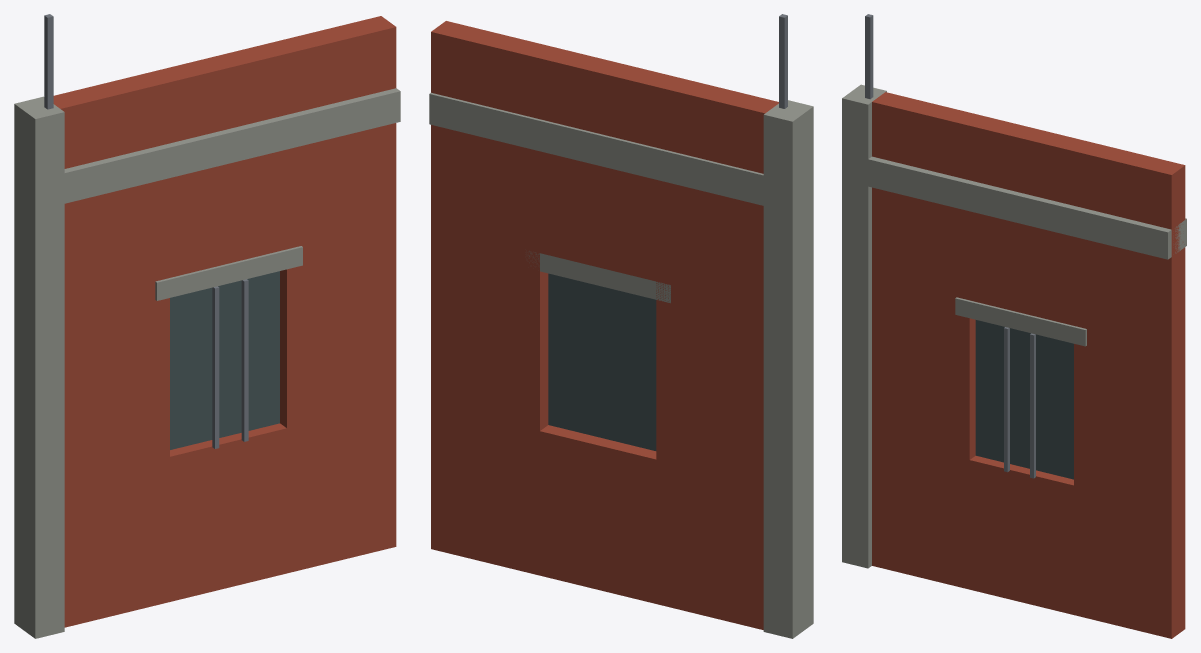
File: top-w1.fbx
The picture shows the model from 3 angles, left to right: view 1: azimuth 30°, elevation 25°; view 2: azimuth 150°, elevation 25°; view 3: azimuth 330°, elevation 25°; orthographic projection. The views are drawn at different scales.
Visible parts, largest first — view 1: a2019/0/top-w1; view 2: a2019/0/top-w1; view 3: a2019/0/top-w1.
Part boxes in pixels (x1,y1,x2,y2): a2019/0/top-w1: (14,14,400,638); a2019/0/top-w1: (429,14,813,638); a2019/0/top-w1: (842,14,1186,638).
Bounding box in the file's own units: 2.5 × 4 × 0.25.
